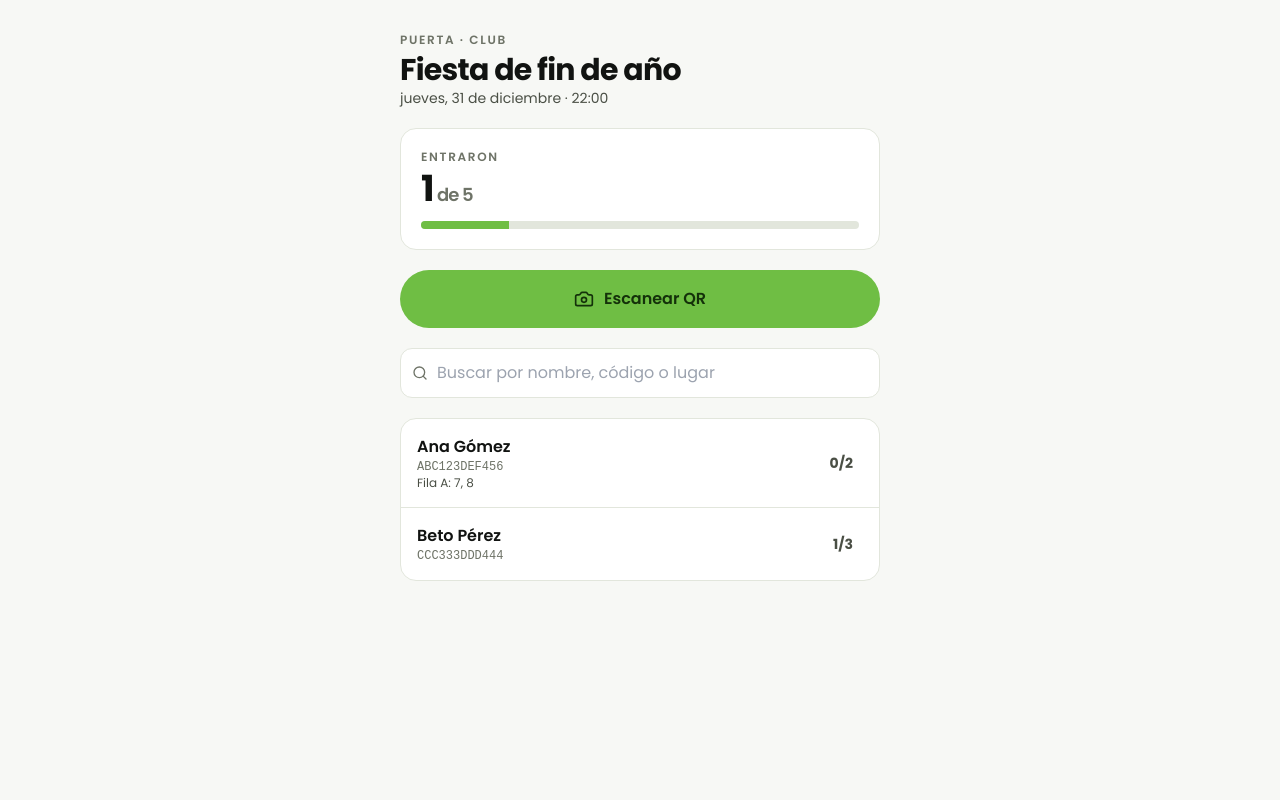
Puerta › una entrada que ya entró se ve en amarillo con la hora, sin botón para marcar
Expected: the heading "Fiesta de fin de año" is shown, [400,49,681,91]
Click the text "Ana Gómez".
click(464, 447)  # box [417,435,511,459]
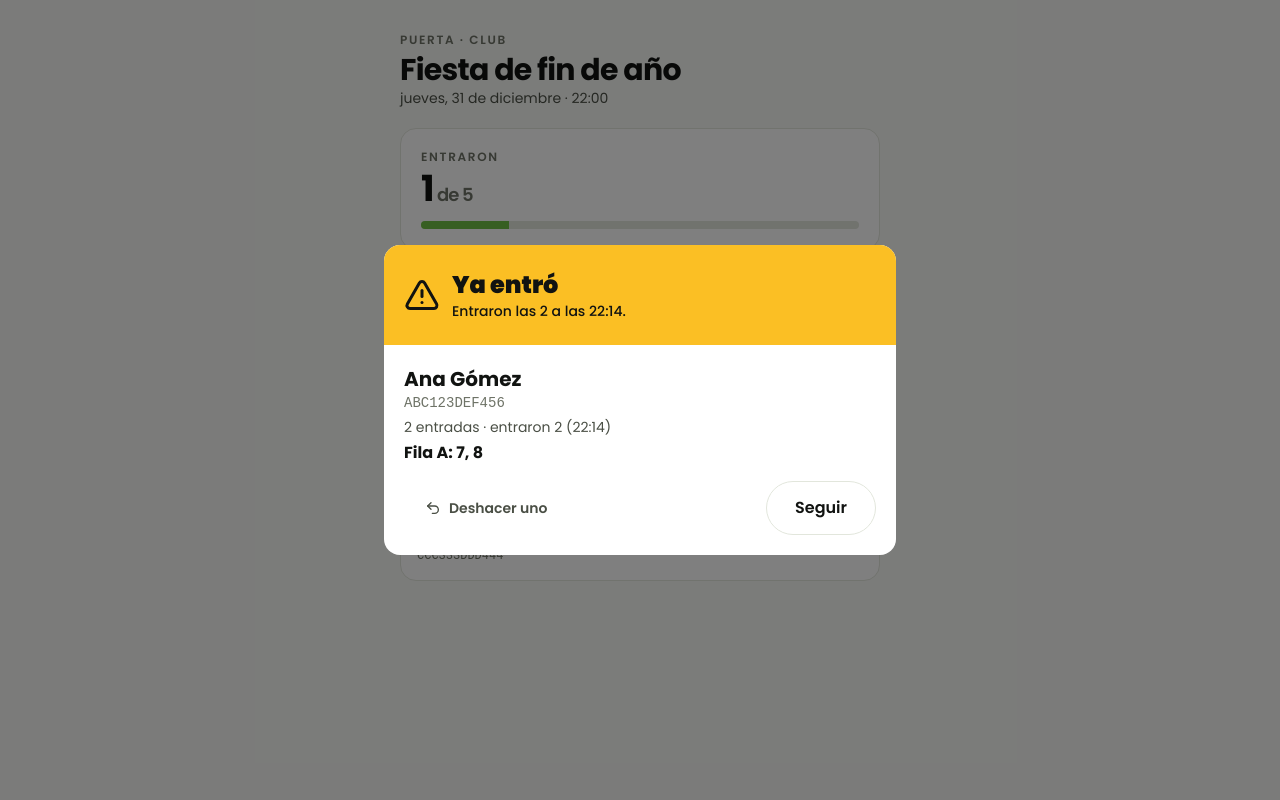
Result: the dialog "Ya entró" is shown at [384,245,896,555]
Result: the text "Entraron las 2 a las 22:14." is shown at [452,301,626,321]
